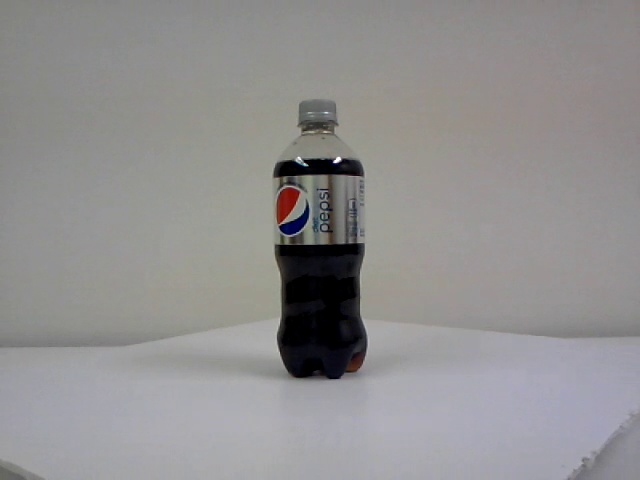botolplastik: (273, 101, 367, 378)
